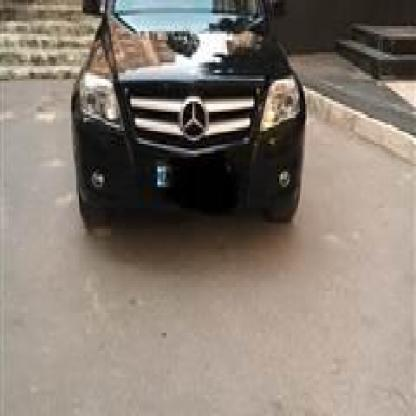Car: (62, 0, 304, 234)
